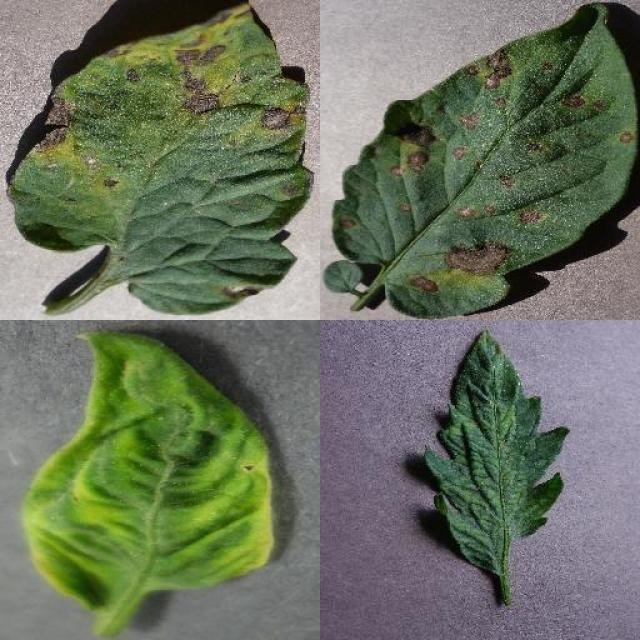Early Blight: (332, 2, 638, 320), (10, 4, 315, 316)
